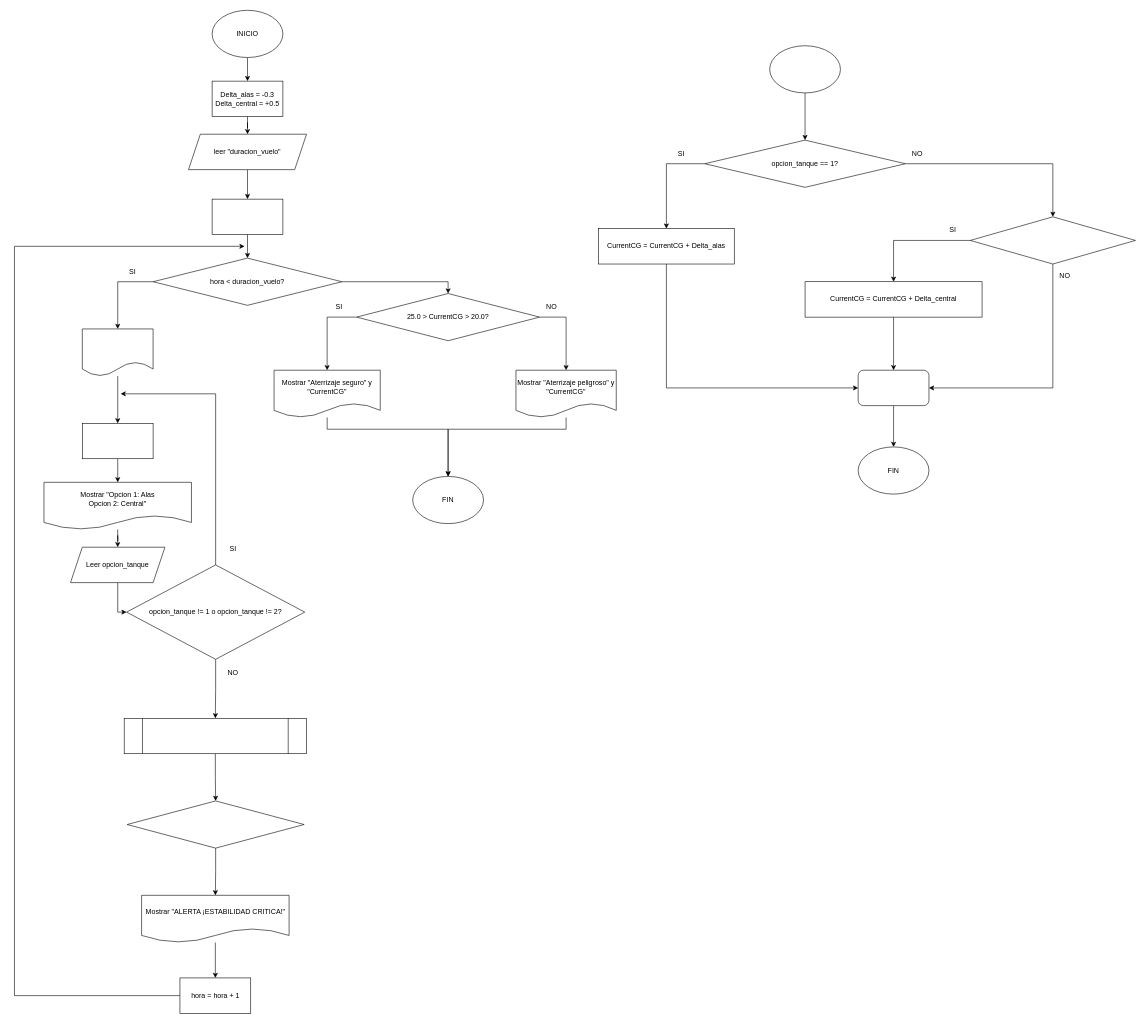
Image size: 1146x1024. Some labels were removed from this diagram. The centre of each missing label's shape, as x and y in pixels:
25.0 < CurrentCG < 20.0?: pixel 215 824
CurrentCG = 22.5 hora = 0: pixel 247 217
Inicio recalcular_CG: pixel 804 69
Mostrar "hora" y "CurrentCG": pixel 117 352
opcion_tanque = 0: pixel 117 441
opcion_tanque == 2?: pixel 1052 240
Recalcular_CG (CurrentCG, opcion_tanque): pixel 215 736
Return CurrentCG: pixel 893 388
